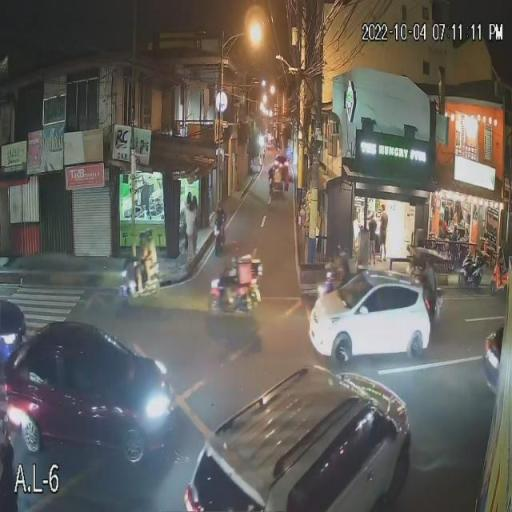helmet: (330, 251, 350, 265), (145, 227, 155, 243), (136, 232, 146, 246), (217, 201, 224, 213)
motorcycle: (206, 276, 266, 316), (112, 259, 166, 298), (208, 224, 228, 250)
rider: (224, 244, 246, 284), (142, 222, 158, 264), (132, 230, 148, 271), (336, 247, 351, 284), (215, 197, 227, 229)
